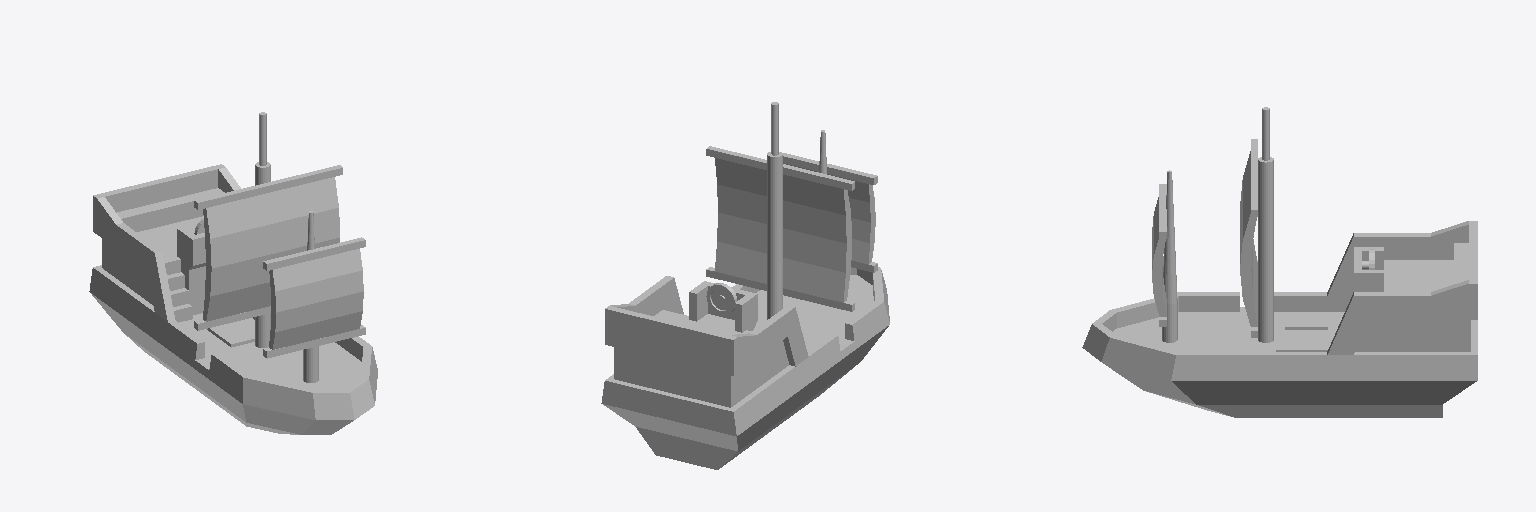
Rendered from boat_level2.obj.
3 renders of one model, left to right at view 1: azimuth 30°, elevation 25°; view 2: azimuth 150°, elevation 25°; view 3: azimuth 270°, elevation 25°, orthographic.
Parts seen in each view (by area): view 1: Mesh22_Group12_Group1_Model, Mesh12_Group14_Group12_Group1_Model, Mesh19_Group21_Group12_Group1_Model, Mesh13_Group15_Group12_Group1_Model, Mesh20_Group22_Group12_Group1_Model; view 2: Mesh22_Group12_Group1_Model, Mesh12_Group14_Group12_Group1_Model, Mesh19_Group21_Group12_Group1_Model, Mesh13_Group15_Group12_Group1_Model, Mesh11_Group13_Group12_Group1_Model; view 3: Mesh22_Group12_Group1_Model, Mesh13_Group15_Group12_Group1_Model, Mesh12_Group14_Group12_Group1_Model, Mesh20_Group22_Group12_Group1_Model, Mesh19_Group21_Group12_Group1_Model.
Part boxes in pixels (x1,y1,x2,y2): Mesh22_Group12_Group1_Model: (89, 164, 377, 434); Mesh12_Group14_Group12_Group1_Model: (194, 165, 342, 330); Mesh19_Group21_Group12_Group1_Model: (263, 237, 365, 358); Mesh13_Group15_Group12_Group1_Model: (255, 112, 270, 347); Mesh20_Group22_Group12_Group1_Model: (303, 211, 318, 382); Mesh22_Group12_Group1_Model: (601, 267, 889, 469); Mesh12_Group14_Group12_Group1_Model: (706, 146, 854, 311); Mesh19_Group21_Group12_Group1_Model: (783, 153, 877, 272); Mesh13_Group15_Group12_Group1_Model: (767, 102, 782, 319); Mesh11_Group13_Group12_Group1_Model: (706, 283, 736, 314); Mesh22_Group12_Group1_Model: (1082, 221, 1477, 417); Mesh13_Group15_Group12_Group1_Model: (1258, 107, 1273, 342); Mesh12_Group14_Group12_Group1_Model: (1240, 139, 1257, 337); Mesh20_Group22_Group12_Group1_Model: (1162, 170, 1177, 342); Mesh19_Group21_Group12_Group1_Model: (1152, 184, 1166, 326).
Bounding box in the file's own units: 3.75 × 7.26 × 8.84.